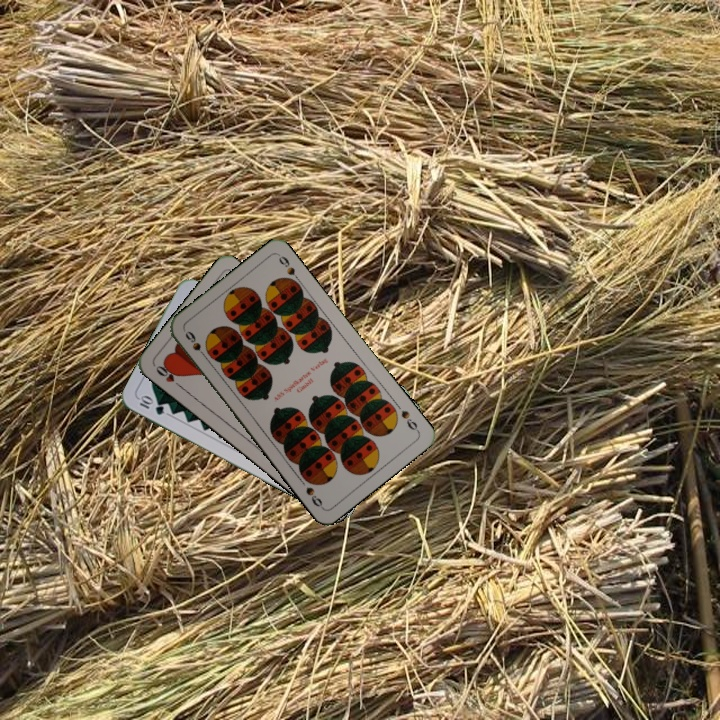G10: (134, 392, 167, 418)
HO: (152, 360, 185, 391)
S9: (181, 327, 210, 362), (397, 406, 422, 435)
